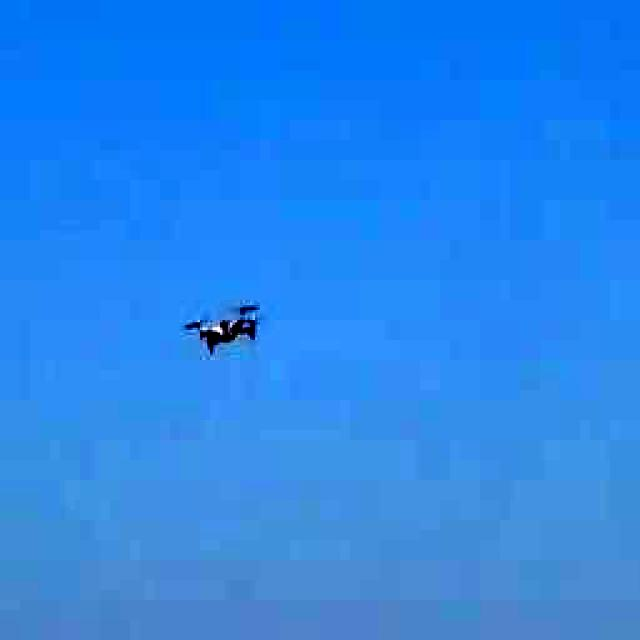bird: (182, 294, 272, 364)
